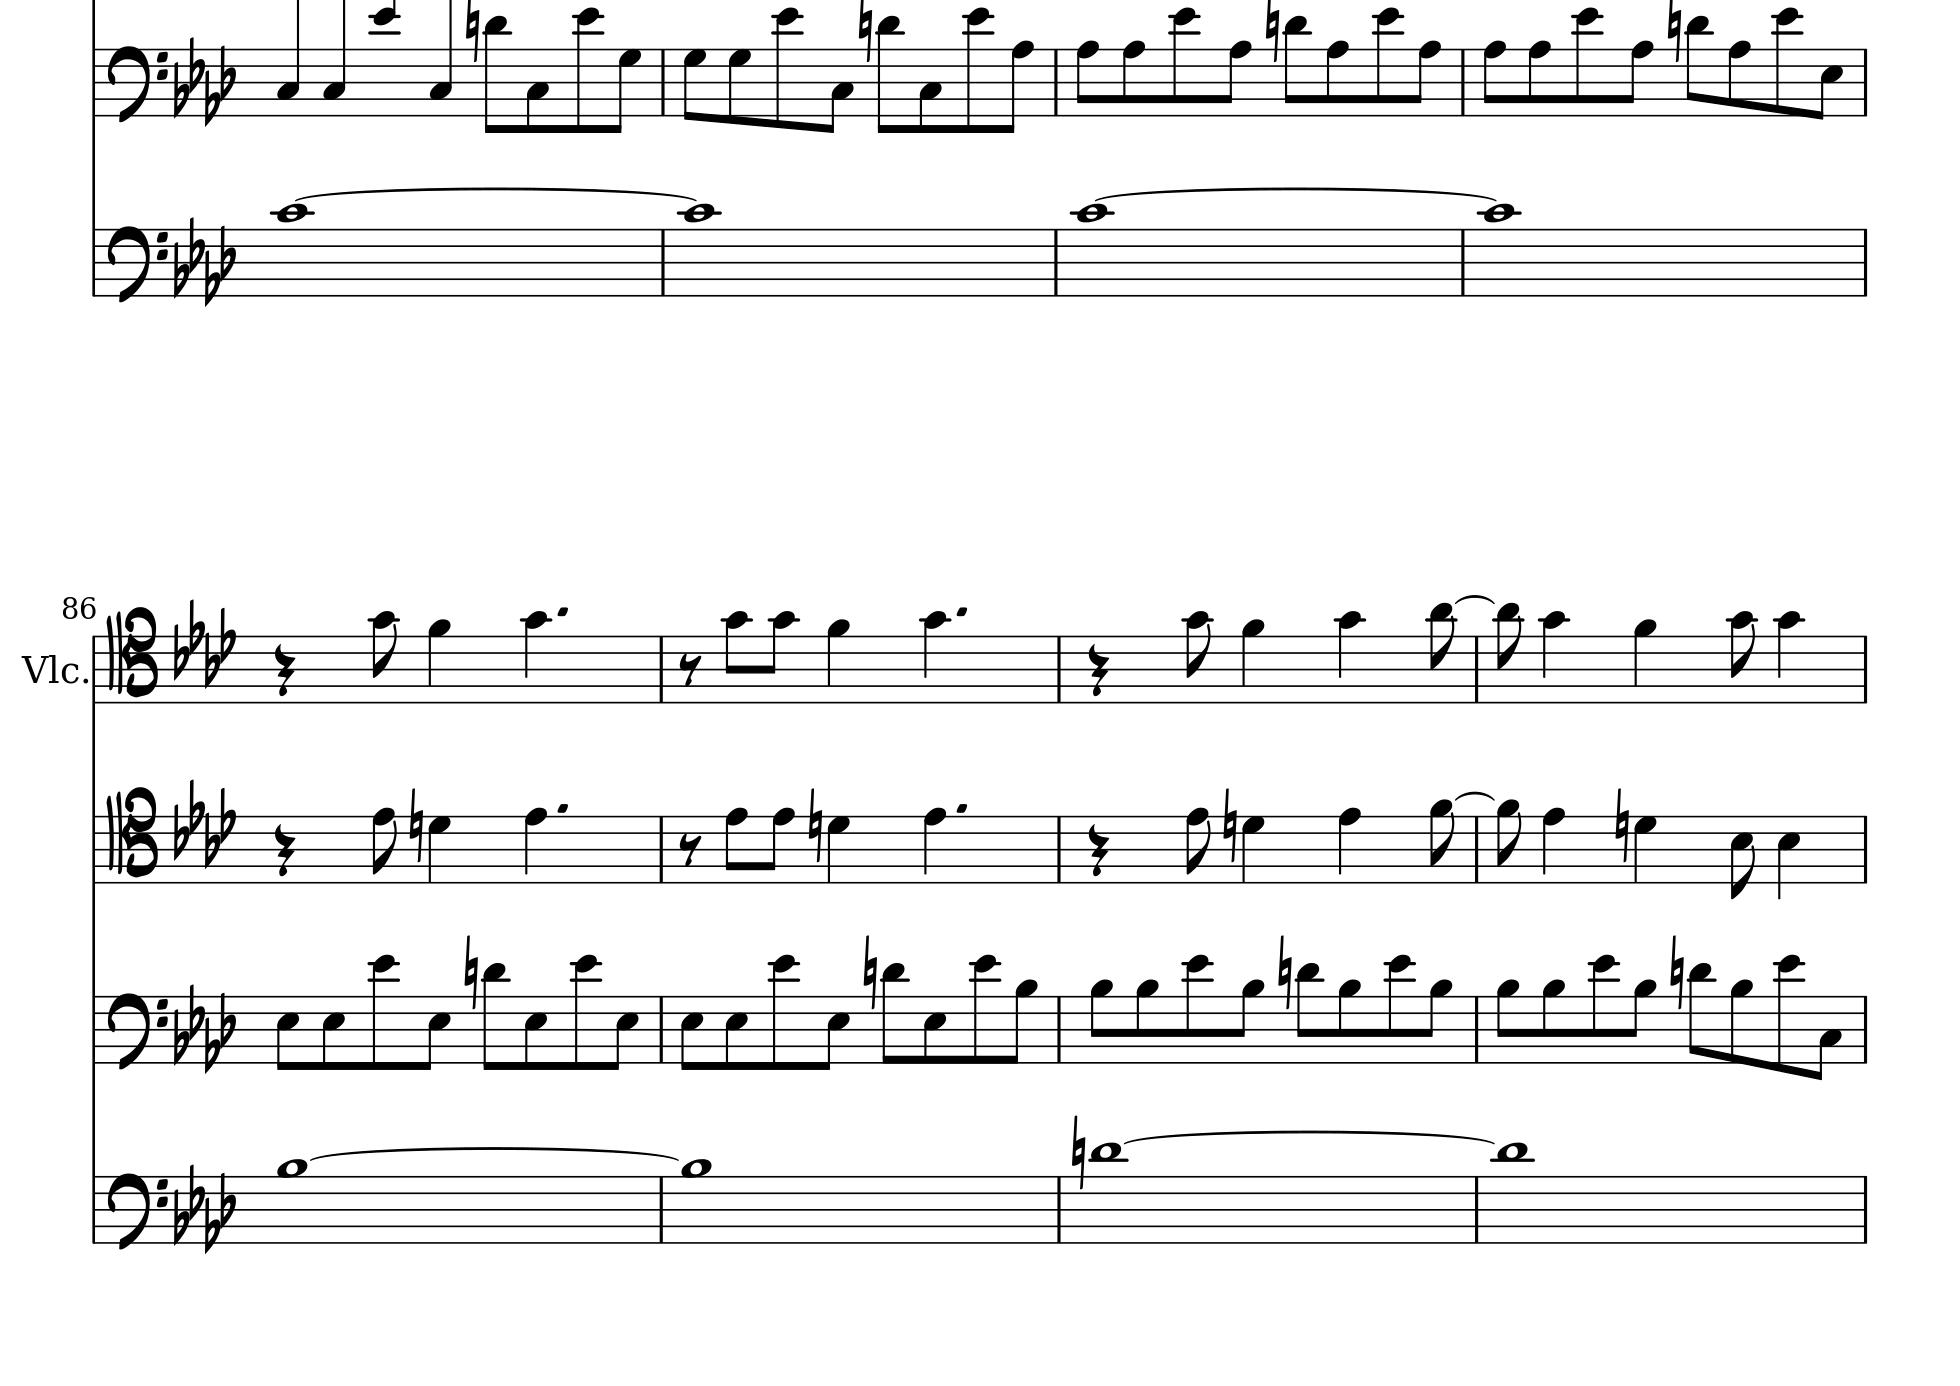1_10: (679, 199, 717, 298), (1074, 199, 1111, 298), (274, 202, 312, 298), (1482, 199, 1518, 298)
1_11: (1494, 1140, 1531, 1245), (1089, 1140, 1125, 1246)
1_9: (274, 1156, 310, 1246), (679, 1156, 714, 1245)
4_10: (1774, 609, 1806, 706), (1335, 609, 1365, 705), (1540, 609, 1569, 705), (522, 609, 549, 706), (921, 609, 948, 705)
4_5: (1776, 813, 1801, 901)
4_7: (1633, 813, 1659, 883), (427, 813, 451, 883), (826, 813, 850, 883), (1242, 813, 1266, 883)
4_8: (1336, 805, 1363, 886), (522, 805, 547, 885), (1542, 805, 1566, 886), (922, 805, 946, 885)
4_9: (1632, 616, 1659, 705), (426, 616, 451, 705), (1240, 616, 1266, 705), (825, 616, 850, 703)
6: (79, 594, 97, 619)
8: (60, 594, 78, 619)
8_10: (762, 609, 796, 703), (1728, 609, 1758, 705), (370, 609, 399, 705), (723, 609, 751, 705), (1185, 610, 1213, 705)
8_11: (874, 13, 904, 135), (481, 13, 510, 138), (480, 960, 510, 1072), (1428, 601, 1458, 706), (1494, 600, 1524, 705), (1282, 13, 1311, 118), (1684, 13, 1713, 118), (880, 961, 909, 1066), (1296, 958, 1323, 1066), (1687, 960, 1714, 1065)
8_12: (963, 4, 996, 136), (573, 4, 603, 136), (1773, 951, 1804, 1075), (570, 951, 601, 1072), (772, 4, 802, 130), (768, 952, 799, 1072), (1773, 4, 1803, 120), (1170, 4, 1200, 118), (1374, 4, 1404, 118), (1573, 4, 1603, 118), (369, 952, 397, 1072), (1590, 952, 1620, 1063), (970, 952, 999, 1066), (1183, 952, 1212, 1065), (1386, 952, 1414, 1065)
8_3: (820, 46, 853, 135), (1812, 993, 1843, 1081), (523, 46, 550, 135), (916, 46, 943, 135)
8_5: (606, 993, 640, 1072), (418, 993, 451, 1072), (817, 993, 850, 1072), (1728, 813, 1755, 901), (1813, 46, 1845, 120), (522, 993, 549, 1072), (321, 993, 346, 1072), (723, 993, 748, 1072), (274, 994, 300, 1072), (679, 993, 703, 1072), (922, 993, 948, 1066)
8_7: (609, 46, 643, 135), (726, 46, 753, 124), (682, 46, 708, 123)
8_8: (1002, 37, 1036, 135), (1219, 37, 1252, 118), (1411, 37, 1443, 117), (1623, 39, 1654, 118), (763, 805, 795, 885), (1183, 805, 1212, 886), (1074, 37, 1101, 118), (370, 805, 397, 886), (1122, 39, 1147, 118), (1482, 39, 1507, 118), (1527, 39, 1552, 118), (723, 805, 748, 885), (1326, 39, 1350, 118), (1728, 39, 1752, 118)
8_9: (1005, 978, 1038, 1065), (1233, 978, 1264, 1065), (1423, 976, 1453, 1063), (1494, 798, 1522, 886), (1627, 978, 1656, 1063), (1428, 798, 1455, 885), (1729, 978, 1755, 1066), (1089, 978, 1114, 1065), (1134, 978, 1159, 1065), (1495, 978, 1521, 1063), (1542, 976, 1566, 1065), (1338, 978, 1362, 1065)
A_F: (169, 214, 237, 306), (171, 33, 234, 124), (172, 597, 235, 688), (172, 775, 235, 867), (172, 1161, 235, 1251), (172, 981, 234, 1072)
Fclef: (105, 43, 169, 124), (105, 1170, 168, 1252), (106, 222, 168, 304), (106, 990, 168, 1071)
Natural: (859, 931, 879, 1011), (1069, 1111, 1089, 1189), (460, 931, 478, 1012), (406, 786, 424, 865), (805, 786, 823, 864), (1221, 786, 1239, 864), (1612, 786, 1630, 864), (1668, 933, 1686, 1011), (1276, 933, 1293, 1011), (463, 1, 481, 64), (1263, 1, 1281, 64), (856, 1, 874, 61), (1665, 1, 1683, 61)
Rests4: (271, 640, 295, 699), (271, 820, 295, 879), (1086, 642, 1110, 699), (1086, 822, 1110, 879)
Rests8: (676, 651, 702, 687), (676, 831, 702, 867)
Single_barline: (1857, 46, 1875, 117), (1857, 226, 1875, 295), (1857, 994, 1875, 1063), (1857, 1174, 1875, 1243), (1048, 48, 1066, 115), (1455, 48, 1473, 115), (1047, 228, 1065, 295), (1857, 634, 1875, 702), (1050, 634, 1068, 700), (1050, 996, 1068, 1062), (1467, 996, 1485, 1062), (1467, 1176, 1485, 1242), (652, 636, 670, 700), (1050, 816, 1068, 880), (652, 996, 670, 1060), (652, 1176, 670, 1240), (85, 48, 102, 115), (85, 228, 102, 295), (655, 228, 672, 295), (1857, 814, 1873, 882), (85, 1174, 102, 1242), (655, 49, 672, 115), (1455, 229, 1471, 295), (85, 994, 102, 1060), (652, 816, 669, 880), (1051, 1176, 1068, 1240), (87, 814, 100, 882), (88, 634, 100, 703)
Slur: (1117, 1126, 1494, 1147), (1092, 186, 1509, 199), (289, 187, 703, 201), (310, 1144, 679, 1159), (1455, 594, 1497, 607), (1455, 790, 1495, 802)
Tensor_Cclef: (103, 784, 157, 883), (105, 606, 157, 706)
Vlc: (22, 649, 79, 688)
dot: (553, 604, 571, 619), (952, 604, 970, 619), (553, 799, 571, 814), (954, 801, 970, 814)
